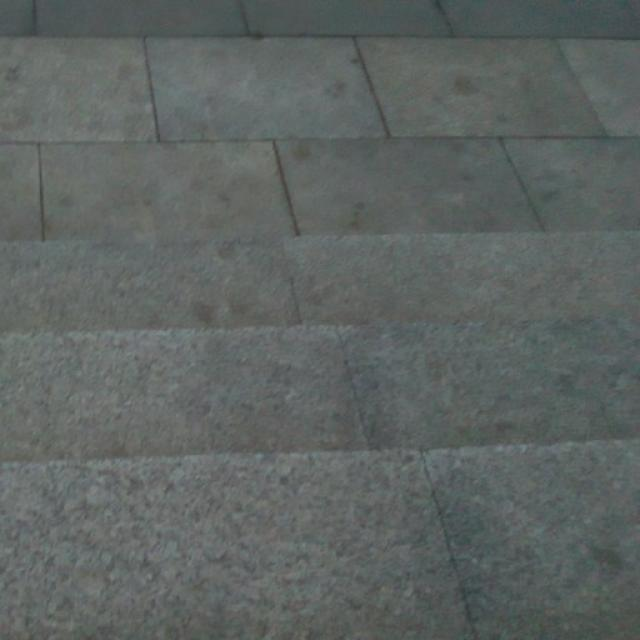stair: (25, 212, 640, 576)
